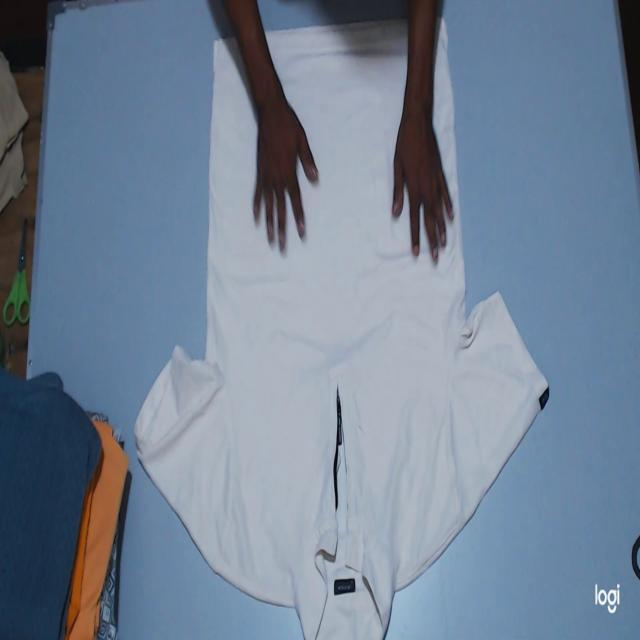new-garment: (135, 21, 548, 639)
